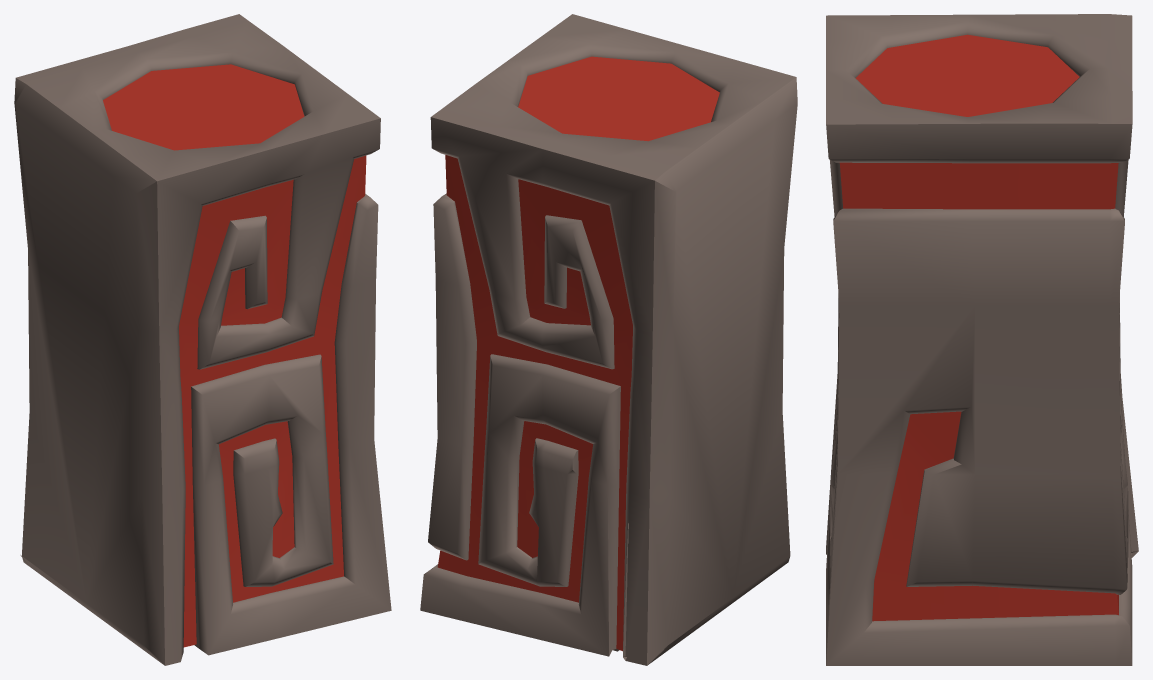
Rendered from rock.glb.
3 renders of one model, left to right at view 1: azimuth 30°, elevation 25°; view 2: azimuth 150°, elevation 25°; view 3: azimuth 270°, elevation 25°, orthographic. The views are drawn at different scales.
Visible parts, largest first — view 1: Cube.002; view 2: Cube.002; view 3: Cube.002.
Boxes of the visible parts, x1,y1,x2,y2 form: Cube.002: [14, 14, 391, 665]; Cube.002: [420, 14, 797, 665]; Cube.002: [826, 14, 1138, 665].
Size of the model in its own units: 2.51 by 4.85 by 2.56.
